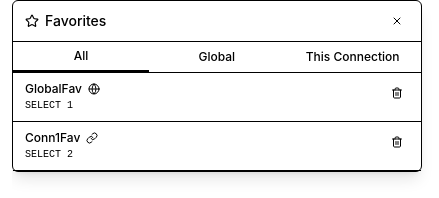
Scenario: FavoritesPanel › filter tabs › filters to global only
This screenshot has width=439, height=198.
Click the button with aria-label "Filter: Global".
click(217, 57)  # box [149, 42, 285, 72]
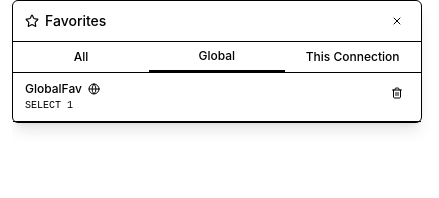
Expected: the button with aria-label "Load favorite: GlobalFav" is shown, [13, 73, 421, 122]
Now the text labelled "Load favorite: Conn1Fav" is gone
